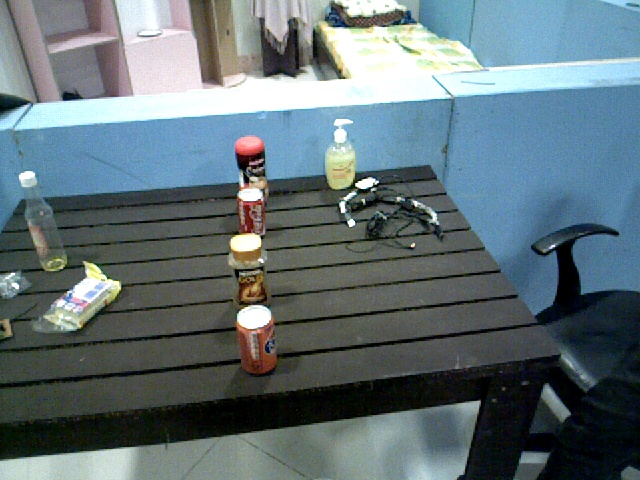coca: (236, 185, 266, 237)
coffee: (232, 233, 268, 310)
cream: (235, 137, 271, 203)
fanta: (238, 306, 277, 377)
